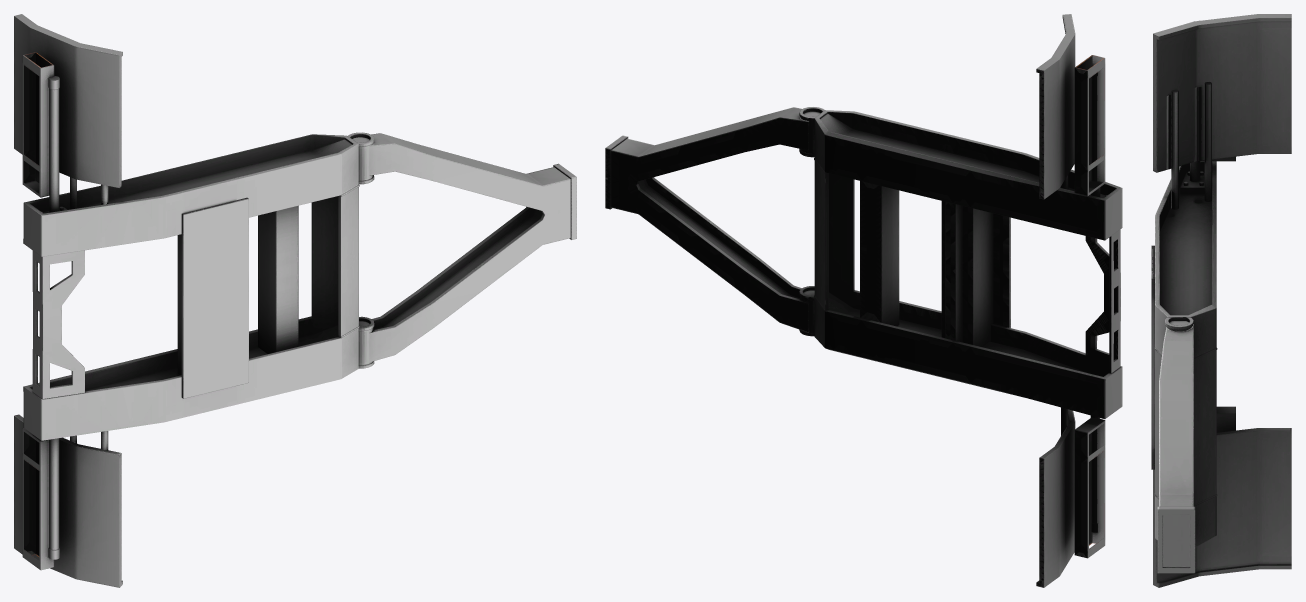
The model's file is Dolly_Single.obj.
The picture shows the model from 3 angles, left to right: view 1: azimuth 30°, elevation 25°; view 2: azimuth 150°, elevation 25°; view 3: azimuth 270°, elevation 25°; orthographic projection. The views are drawn at different scales.
Visible parts, largest first — view 1: Dolly_Single; view 2: Dolly_Single; view 3: Dolly_Single.
Boxes of the visible parts, x1,y1,x2,y2 form: Dolly_Single: (14,14,576,587); Dolly_Single: (605,14,1122,587); Dolly_Single: (1151,14,1291,587).
Size of the model in its own units: 2.48 by 2.41 by 0.5546.
Materials: 1 (1 with a texture image).
